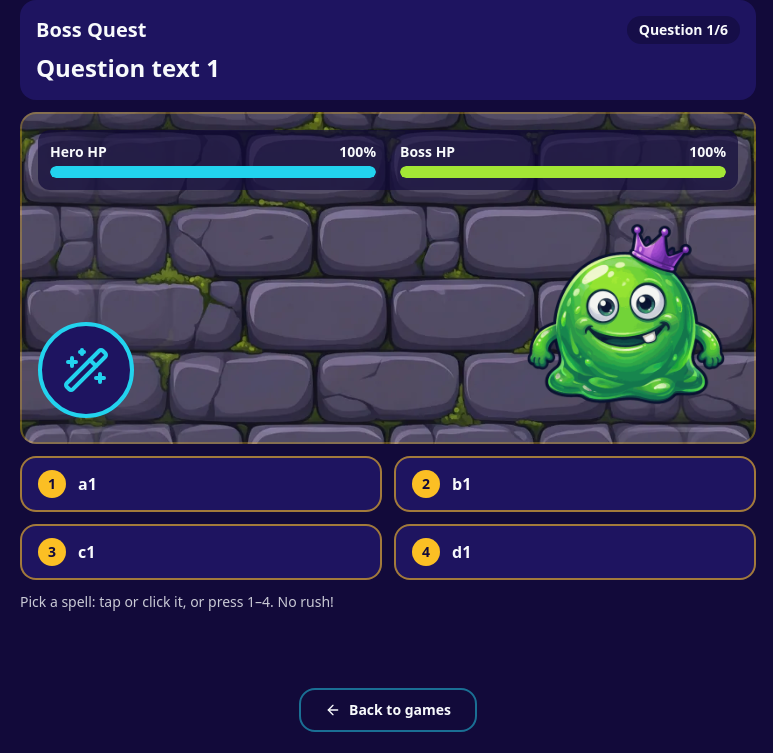
Test: a wrong spell bonks the hero, shows a hint, and moves focus to the next live spell
Click the button with test id "spell" at [426, 484], box [394,456,756,512]
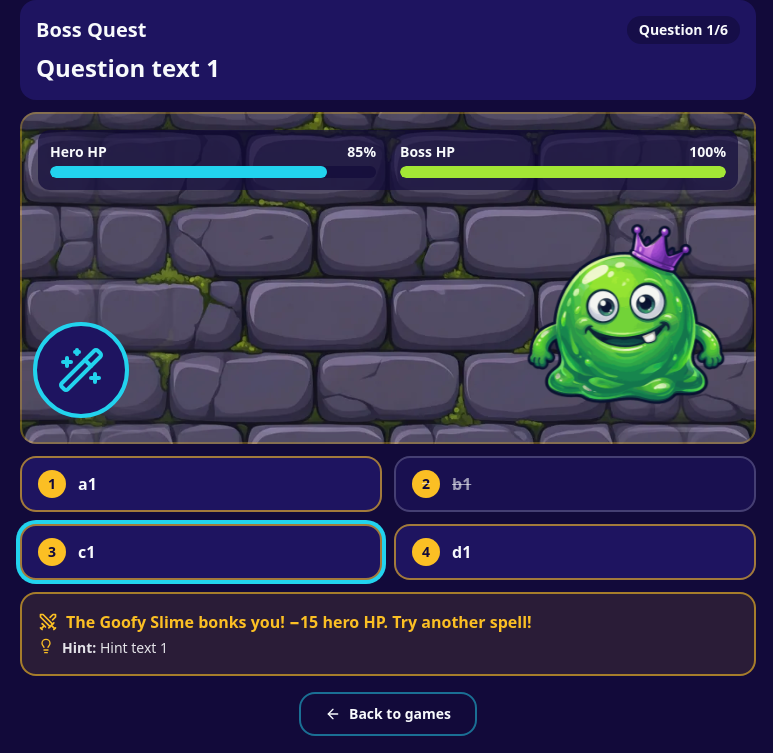
Expected: the text "The Goofy Slime bonks you! −15 hero HP. Try another spell!" is shown, [38,611,532,633]
Expected: the text "Hint text 1" is shown, [100,638,168,657]
Expected: the button with test id "spell" is disabled, [394,456,756,512]
